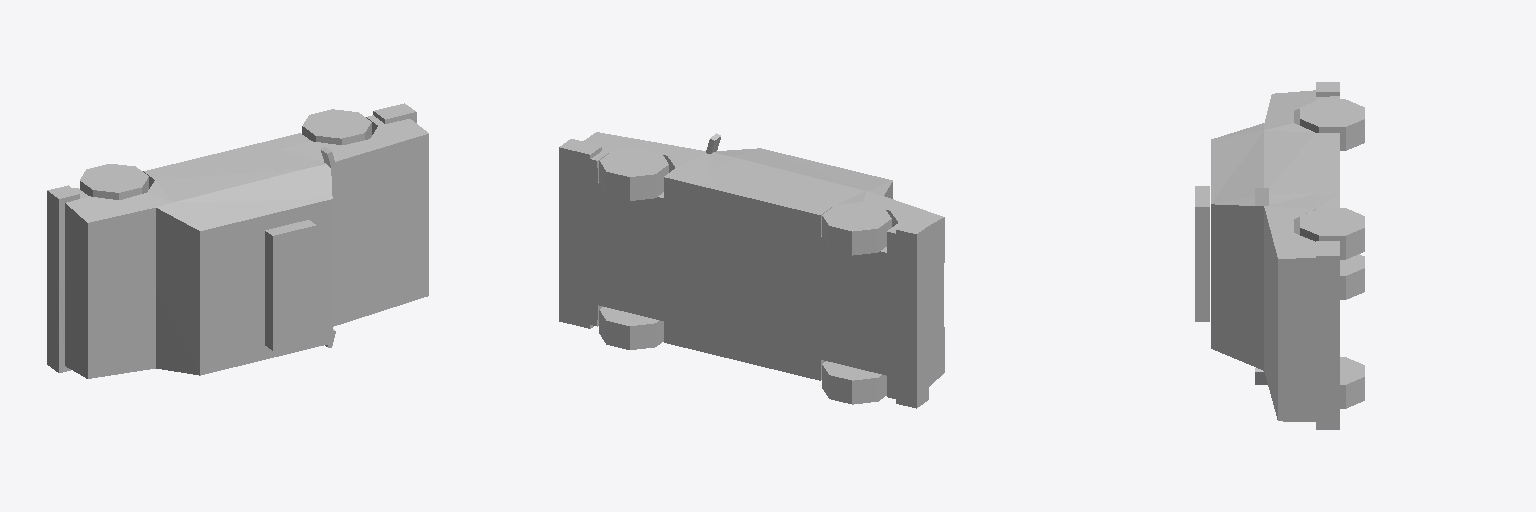
File: police-car.obj
The picture shows the model from 3 angles: view 1: azimuth 30°, elevation 25°; view 2: azimuth 150°, elevation 25°; view 3: azimuth 270°, elevation 25°; orthographic projection.
Parts seen in each view (by area): view 1: obj1, obj6, obj3, obj2; view 2: obj1, obj2, obj3, obj5, obj4; view 3: obj1, obj3, obj2, obj6, obj5, obj4.
Part boxes in pixels (x1,y1,x2,y2): obj1: (47,103,428,378); obj6: (265,220,316,350); obj3: (80,164,148,199); obj2: (302,109,371,144); obj1: (559,132,944,408); obj2: (599,148,668,200); obj3: (822,202,891,255); obj5: (599,307,663,349); obj4: (822,361,886,404); obj1: (1211,82,1339,429); obj3: (1300,99,1364,150); obj2: (1300,208,1364,259); obj6: (1195,186,1209,321); obj5: (1340,357,1364,408); obj4: (1340,254,1364,299).
Size of the model in its own units: 3.97 by 2.08 by 1.64.